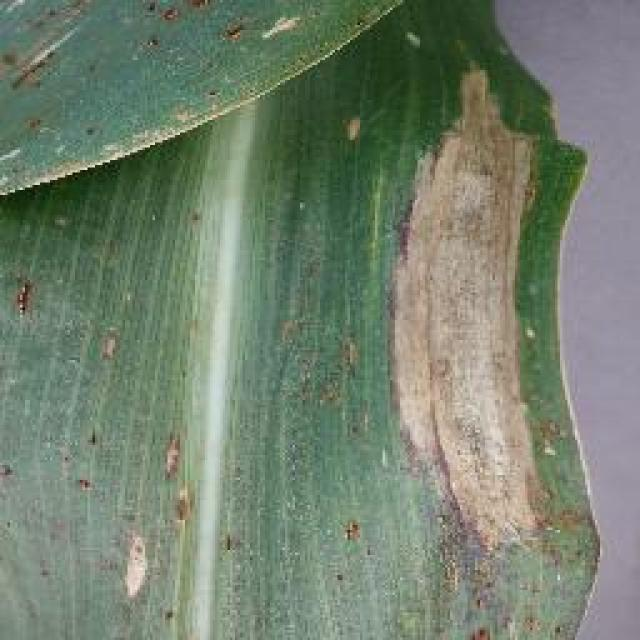Corn___Northern_Leaf_Blight: (269, 31, 615, 621)
